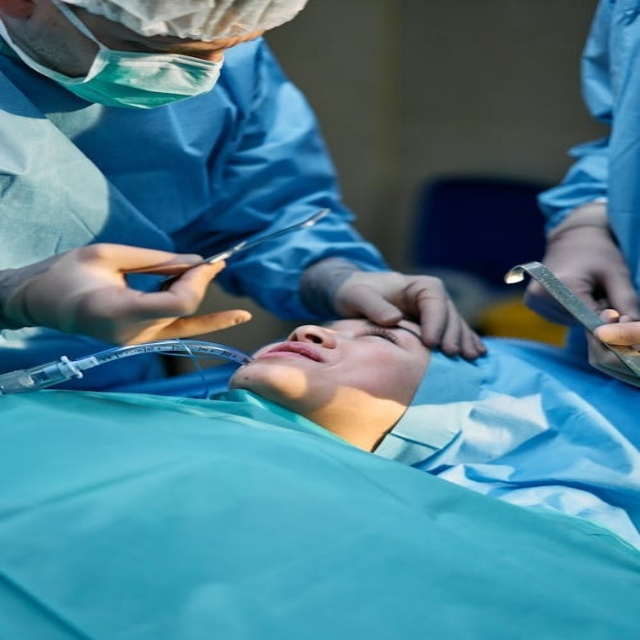Guantes: (4, 238, 255, 358), (293, 250, 492, 366), (530, 199, 635, 319), (586, 306, 639, 393)
Mascara: (5, 3, 230, 120)
Sin_gafas: (102, 27, 261, 67), (324, 317, 419, 349)
Sin_mascara: (259, 341, 327, 364)
